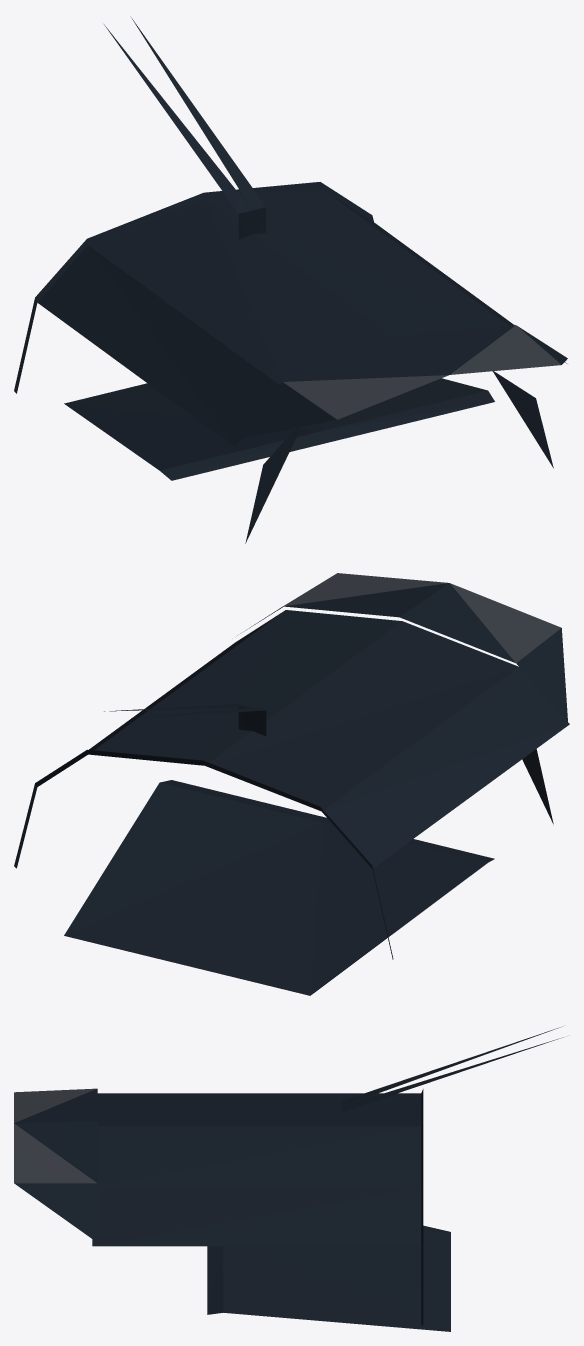
Rendered from Ship_Dart_LP_Canopy.fbx.
3 renders of one model, top to bottom at view 1: azimuth 30°, elevation 25°; view 2: azimuth 150°, elevation 25°; view 3: azimuth 270°, elevation 25°, orthographic. The views are drawn at different scales.
Visible parts, largest first — view 1: Ship_Dart_LP_Canopy; view 2: Ship_Dart_LP_Canopy; view 3: Ship_Dart_LP_Canopy.
Boxes of the visible parts, <box> form: Ship_Dart_LP_Canopy: <box>14,16,567,543</box>; Ship_Dart_LP_Canopy: <box>14,573,569,995</box>; Ship_Dart_LP_Canopy: <box>14,1026,563,1331</box>.
Bounding box in the file's own units: 1.94 × 1.49 × 2.97.
